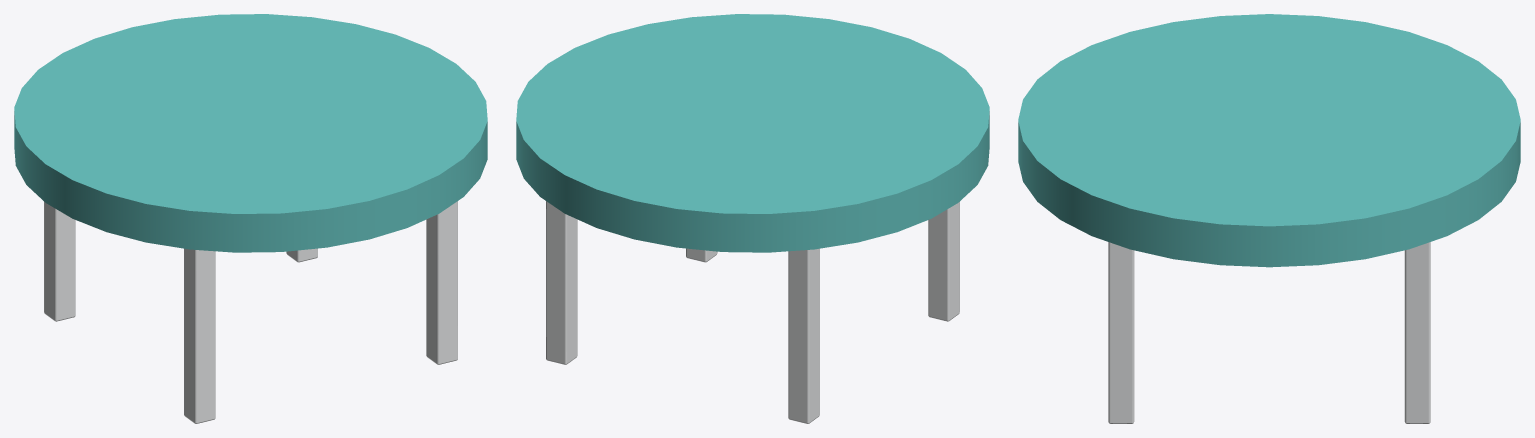
The model's file is living-round-table.glb.
3 renders of one model, left to right at view 1: azimuth 30°, elevation 25°; view 2: azimuth 150°, elevation 25°; view 3: azimuth 270°, elevation 25°, orthographic. The views are drawn at different scales.
Parts seen in each view (by area): view 1: top, leg--0.46-0.46, leg-0.46-0.46, leg--0.46--0.46; view 2: top, leg--0.46--0.46, leg-0.46--0.46, leg--0.46-0.46; view 3: top, leg-0.46--0.46, leg-0.46-0.46.
Boxes of the visible parts, box(x1,y1,x2,y2) form: top: box(14, 14, 487, 252); leg--0.46-0.46: box(184, 248, 215, 423); leg-0.46-0.46: box(426, 201, 457, 364); leg--0.46--0.46: box(44, 202, 75, 321); top: box(516, 14, 989, 252); leg--0.46--0.46: box(788, 248, 819, 423); leg-0.46--0.46: box(546, 201, 577, 364); leg--0.46-0.46: box(928, 202, 959, 321); top: box(1018, 14, 1520, 267); leg-0.46--0.46: box(1404, 242, 1430, 423); leg-0.46-0.46: box(1108, 242, 1134, 423).
Size of the model in its own units: 1.56 by 0.81 by 1.56.
